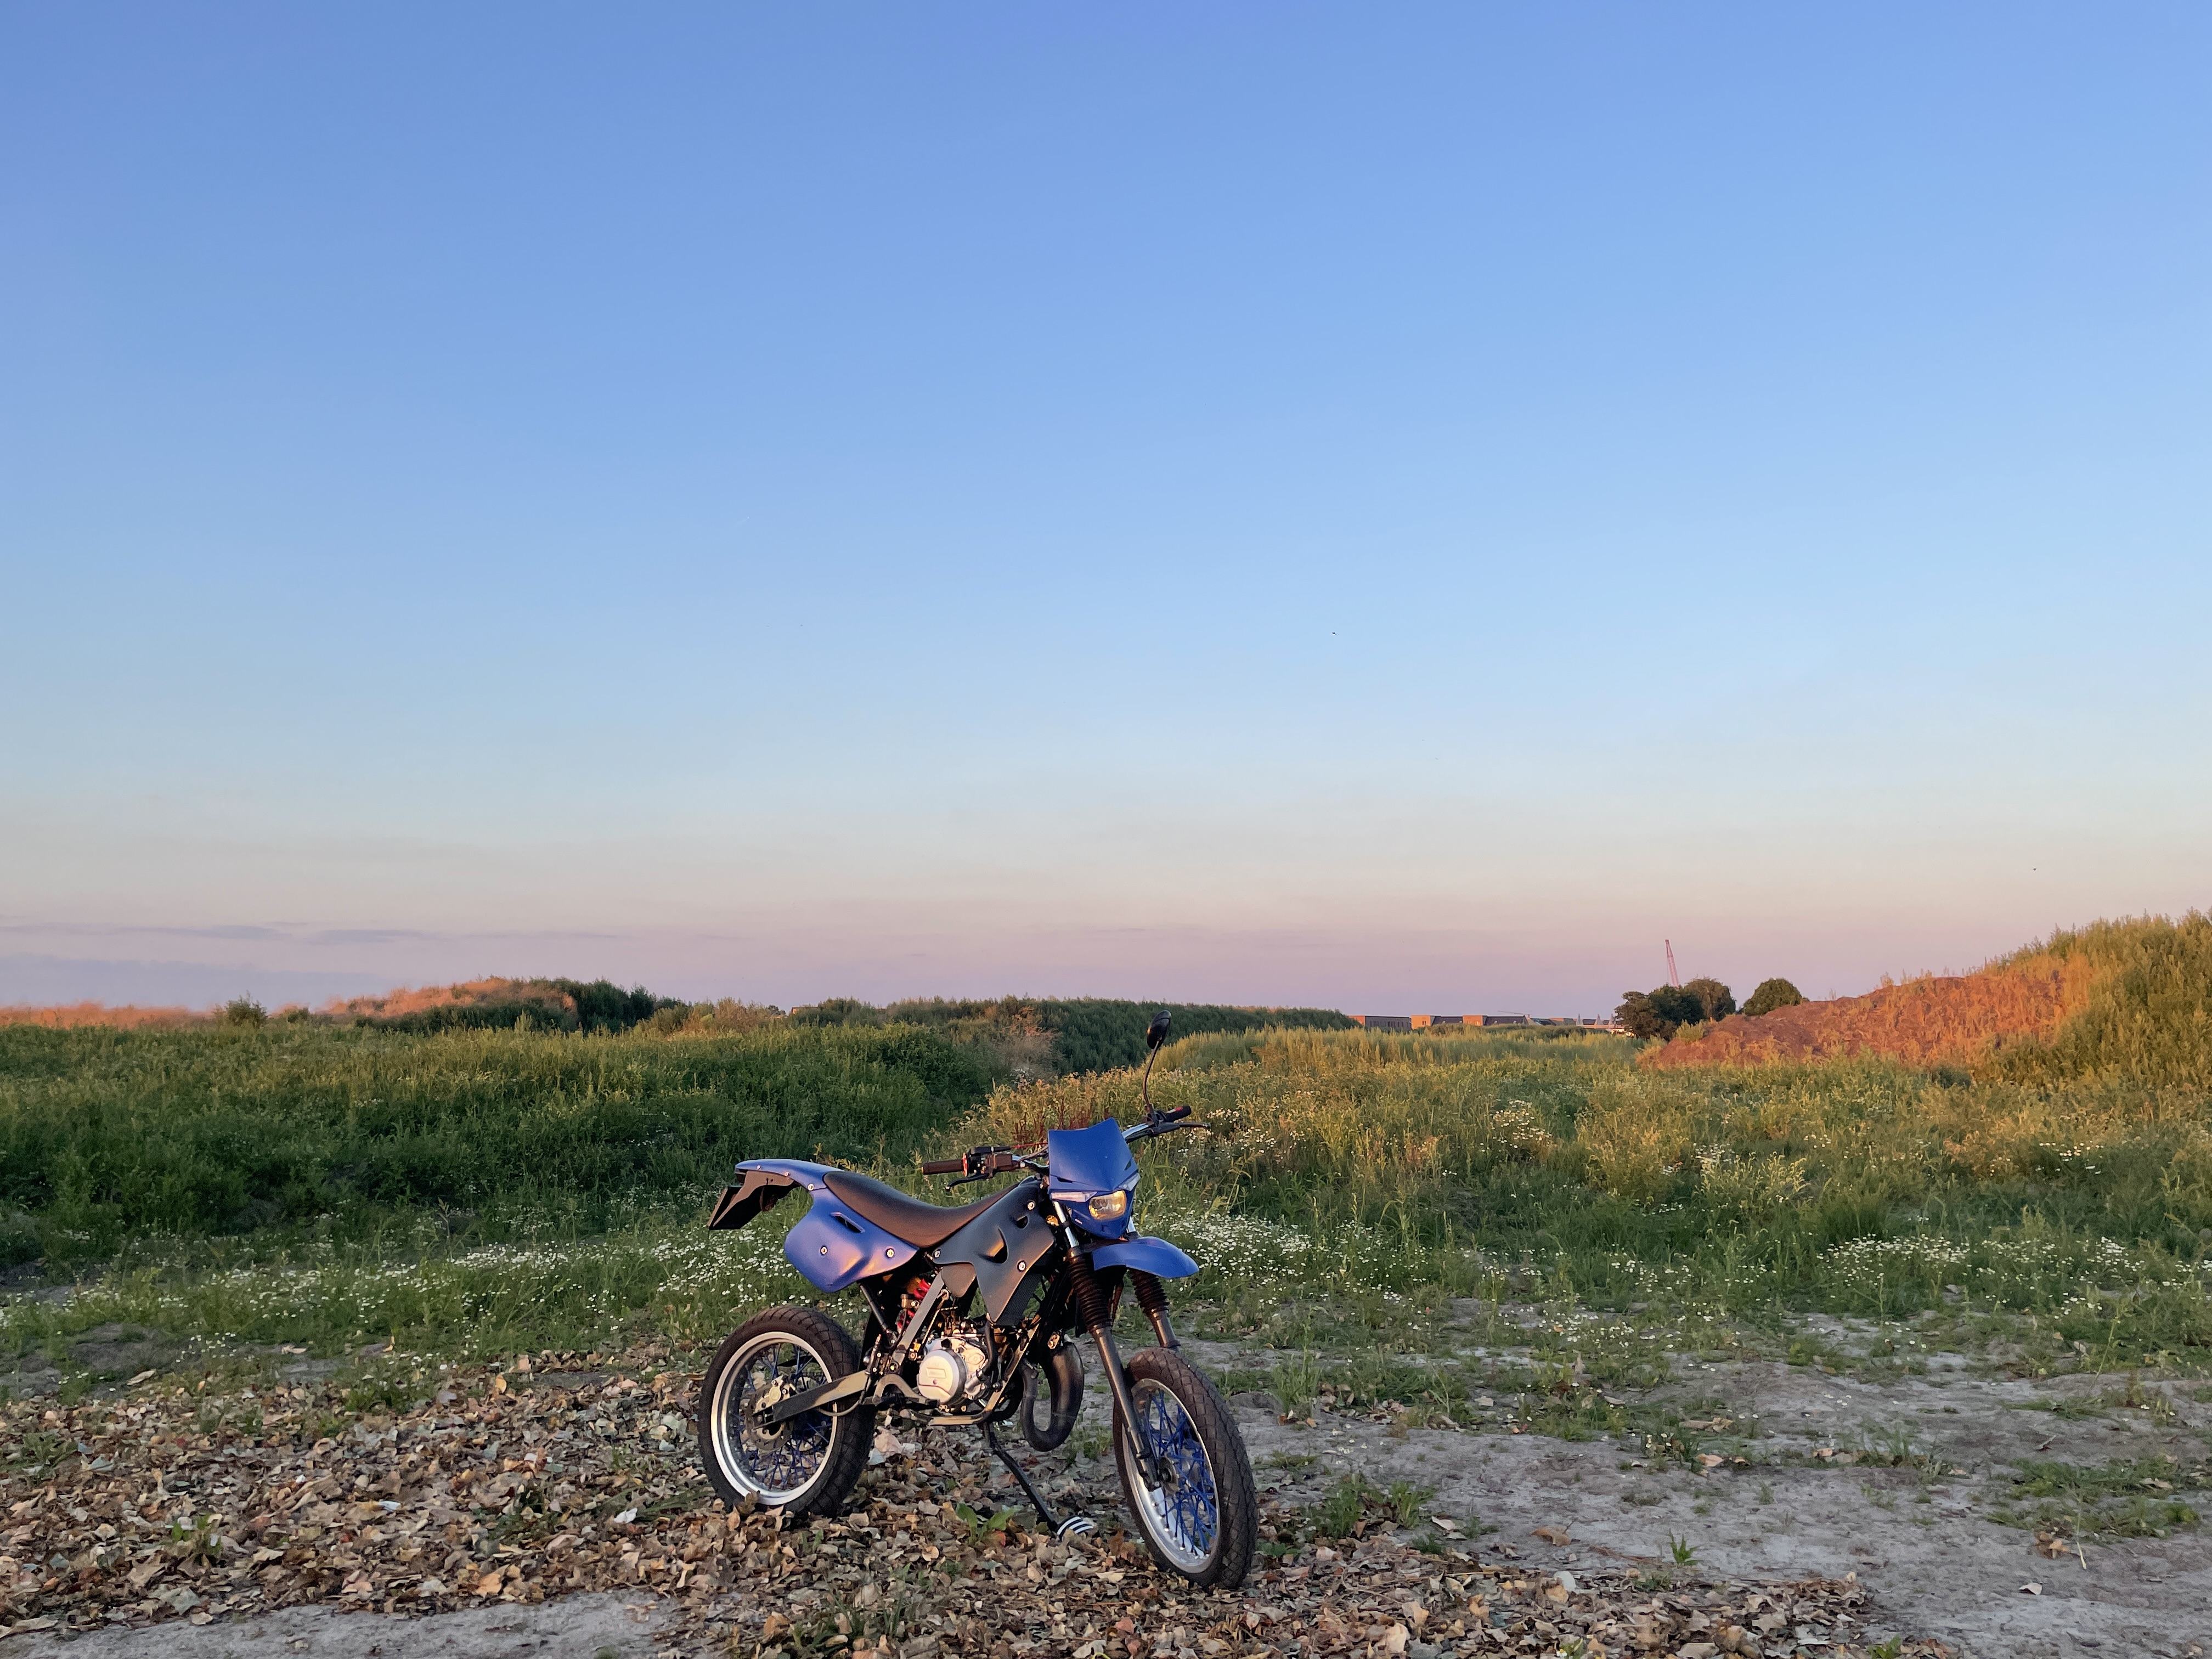motorcycle: (700, 1114, 1259, 1600)
